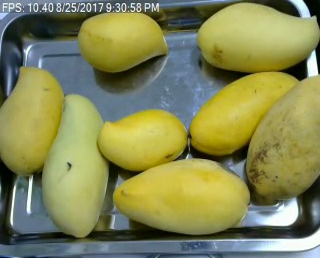Mango: (113, 159, 251, 237), (243, 73, 320, 205), (190, 69, 303, 157), (41, 93, 109, 237), (195, 0, 319, 73), (0, 66, 65, 173), (96, 107, 187, 173), (77, 10, 169, 74)
